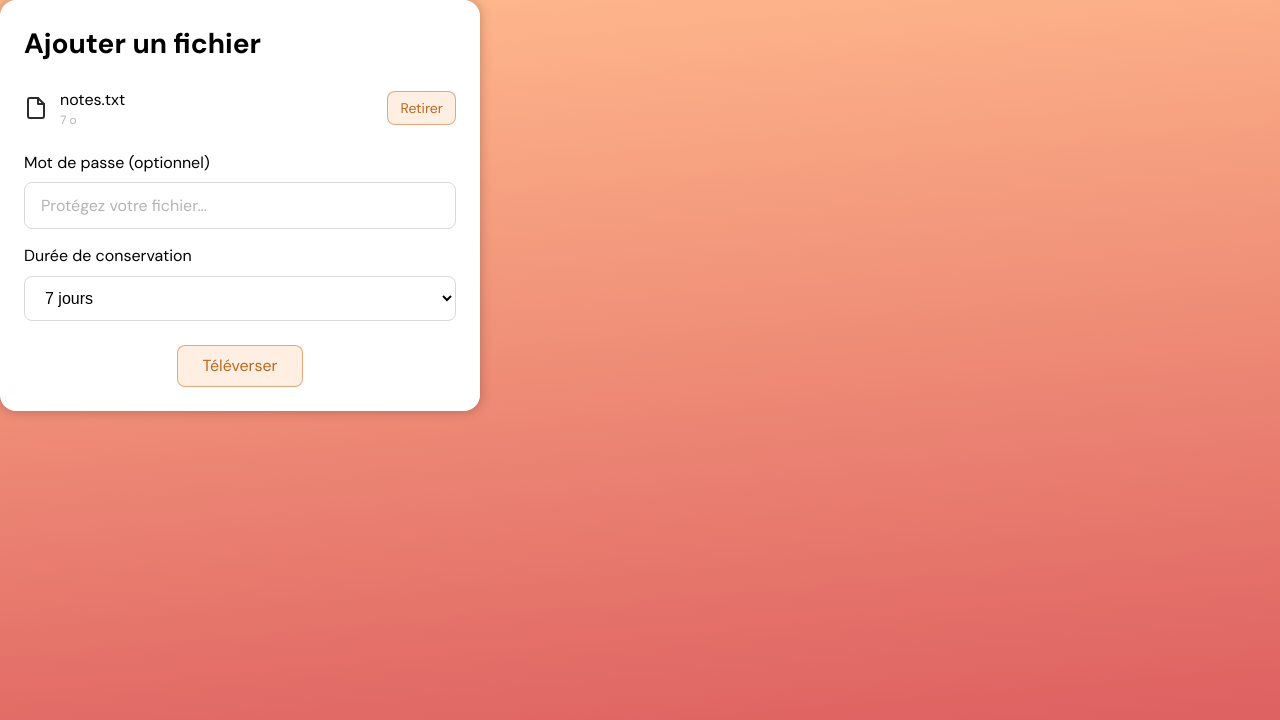
Scenario: UploadForm › mot de passe trop court → erreur locale, aucun appel réseau
Type "abc" into the password field with placeholder "Protégez votre fichier...".
click(240, 206); type("abc")  # box [24,182,456,229]
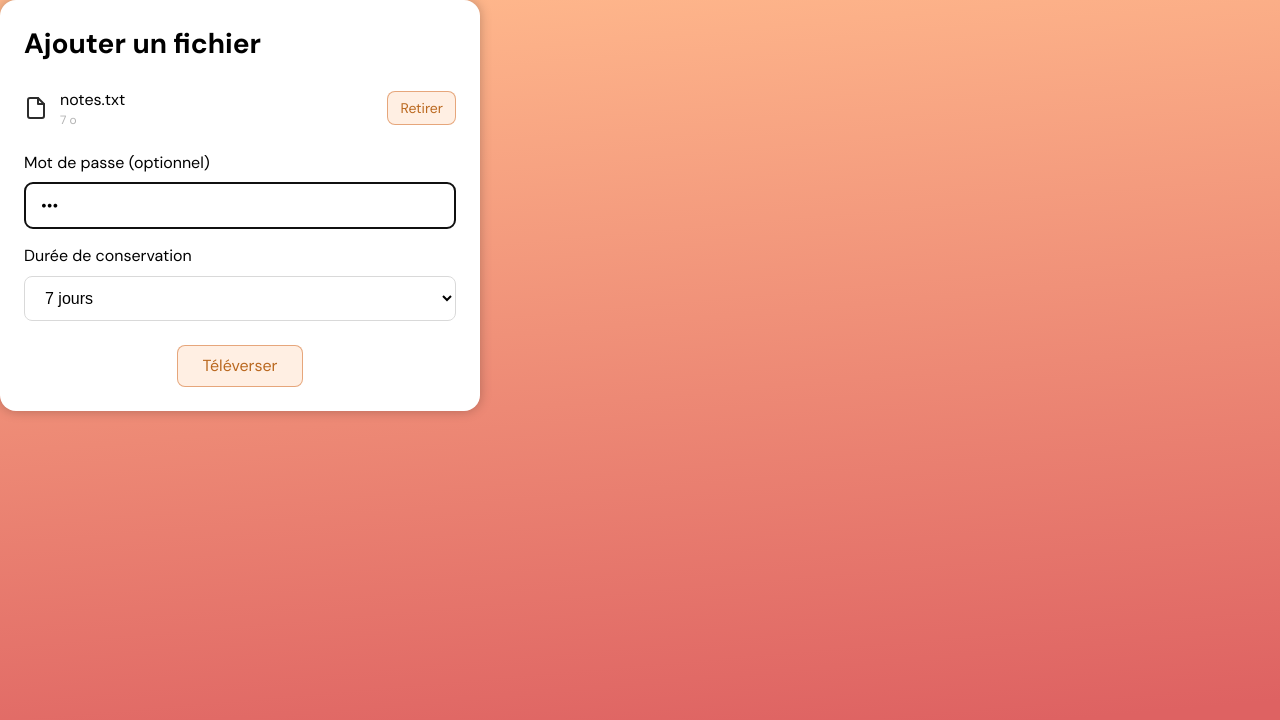
Click the button "Téléverser".
click(240, 366)  # box [178,345,302,387]
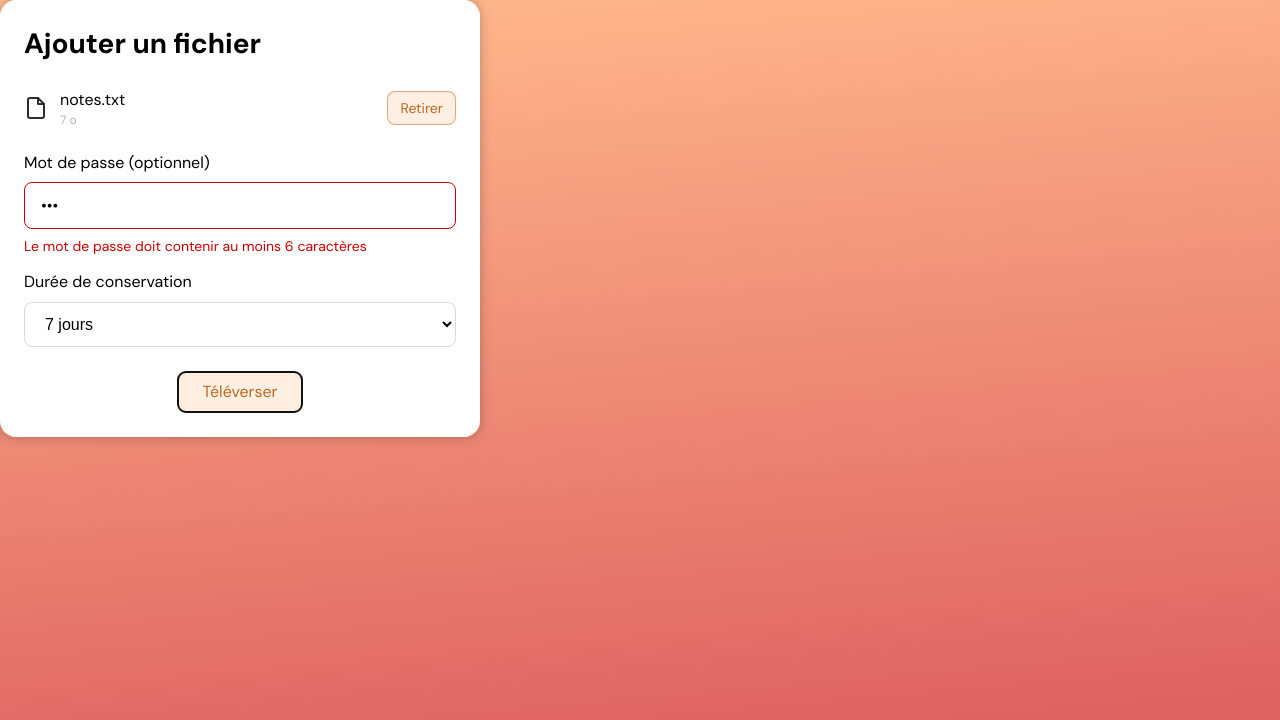
expect the text "Le mot de passe doit contenir au moins 6 caractères" is shown: met, box [24,237,367,255]
